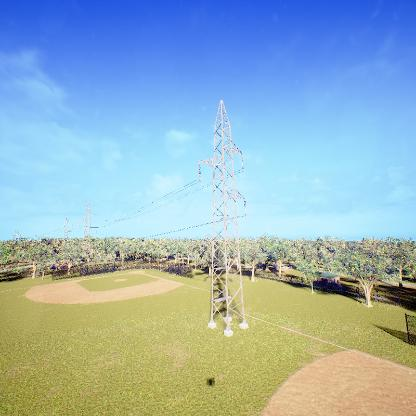tower: (193, 97, 252, 340)
